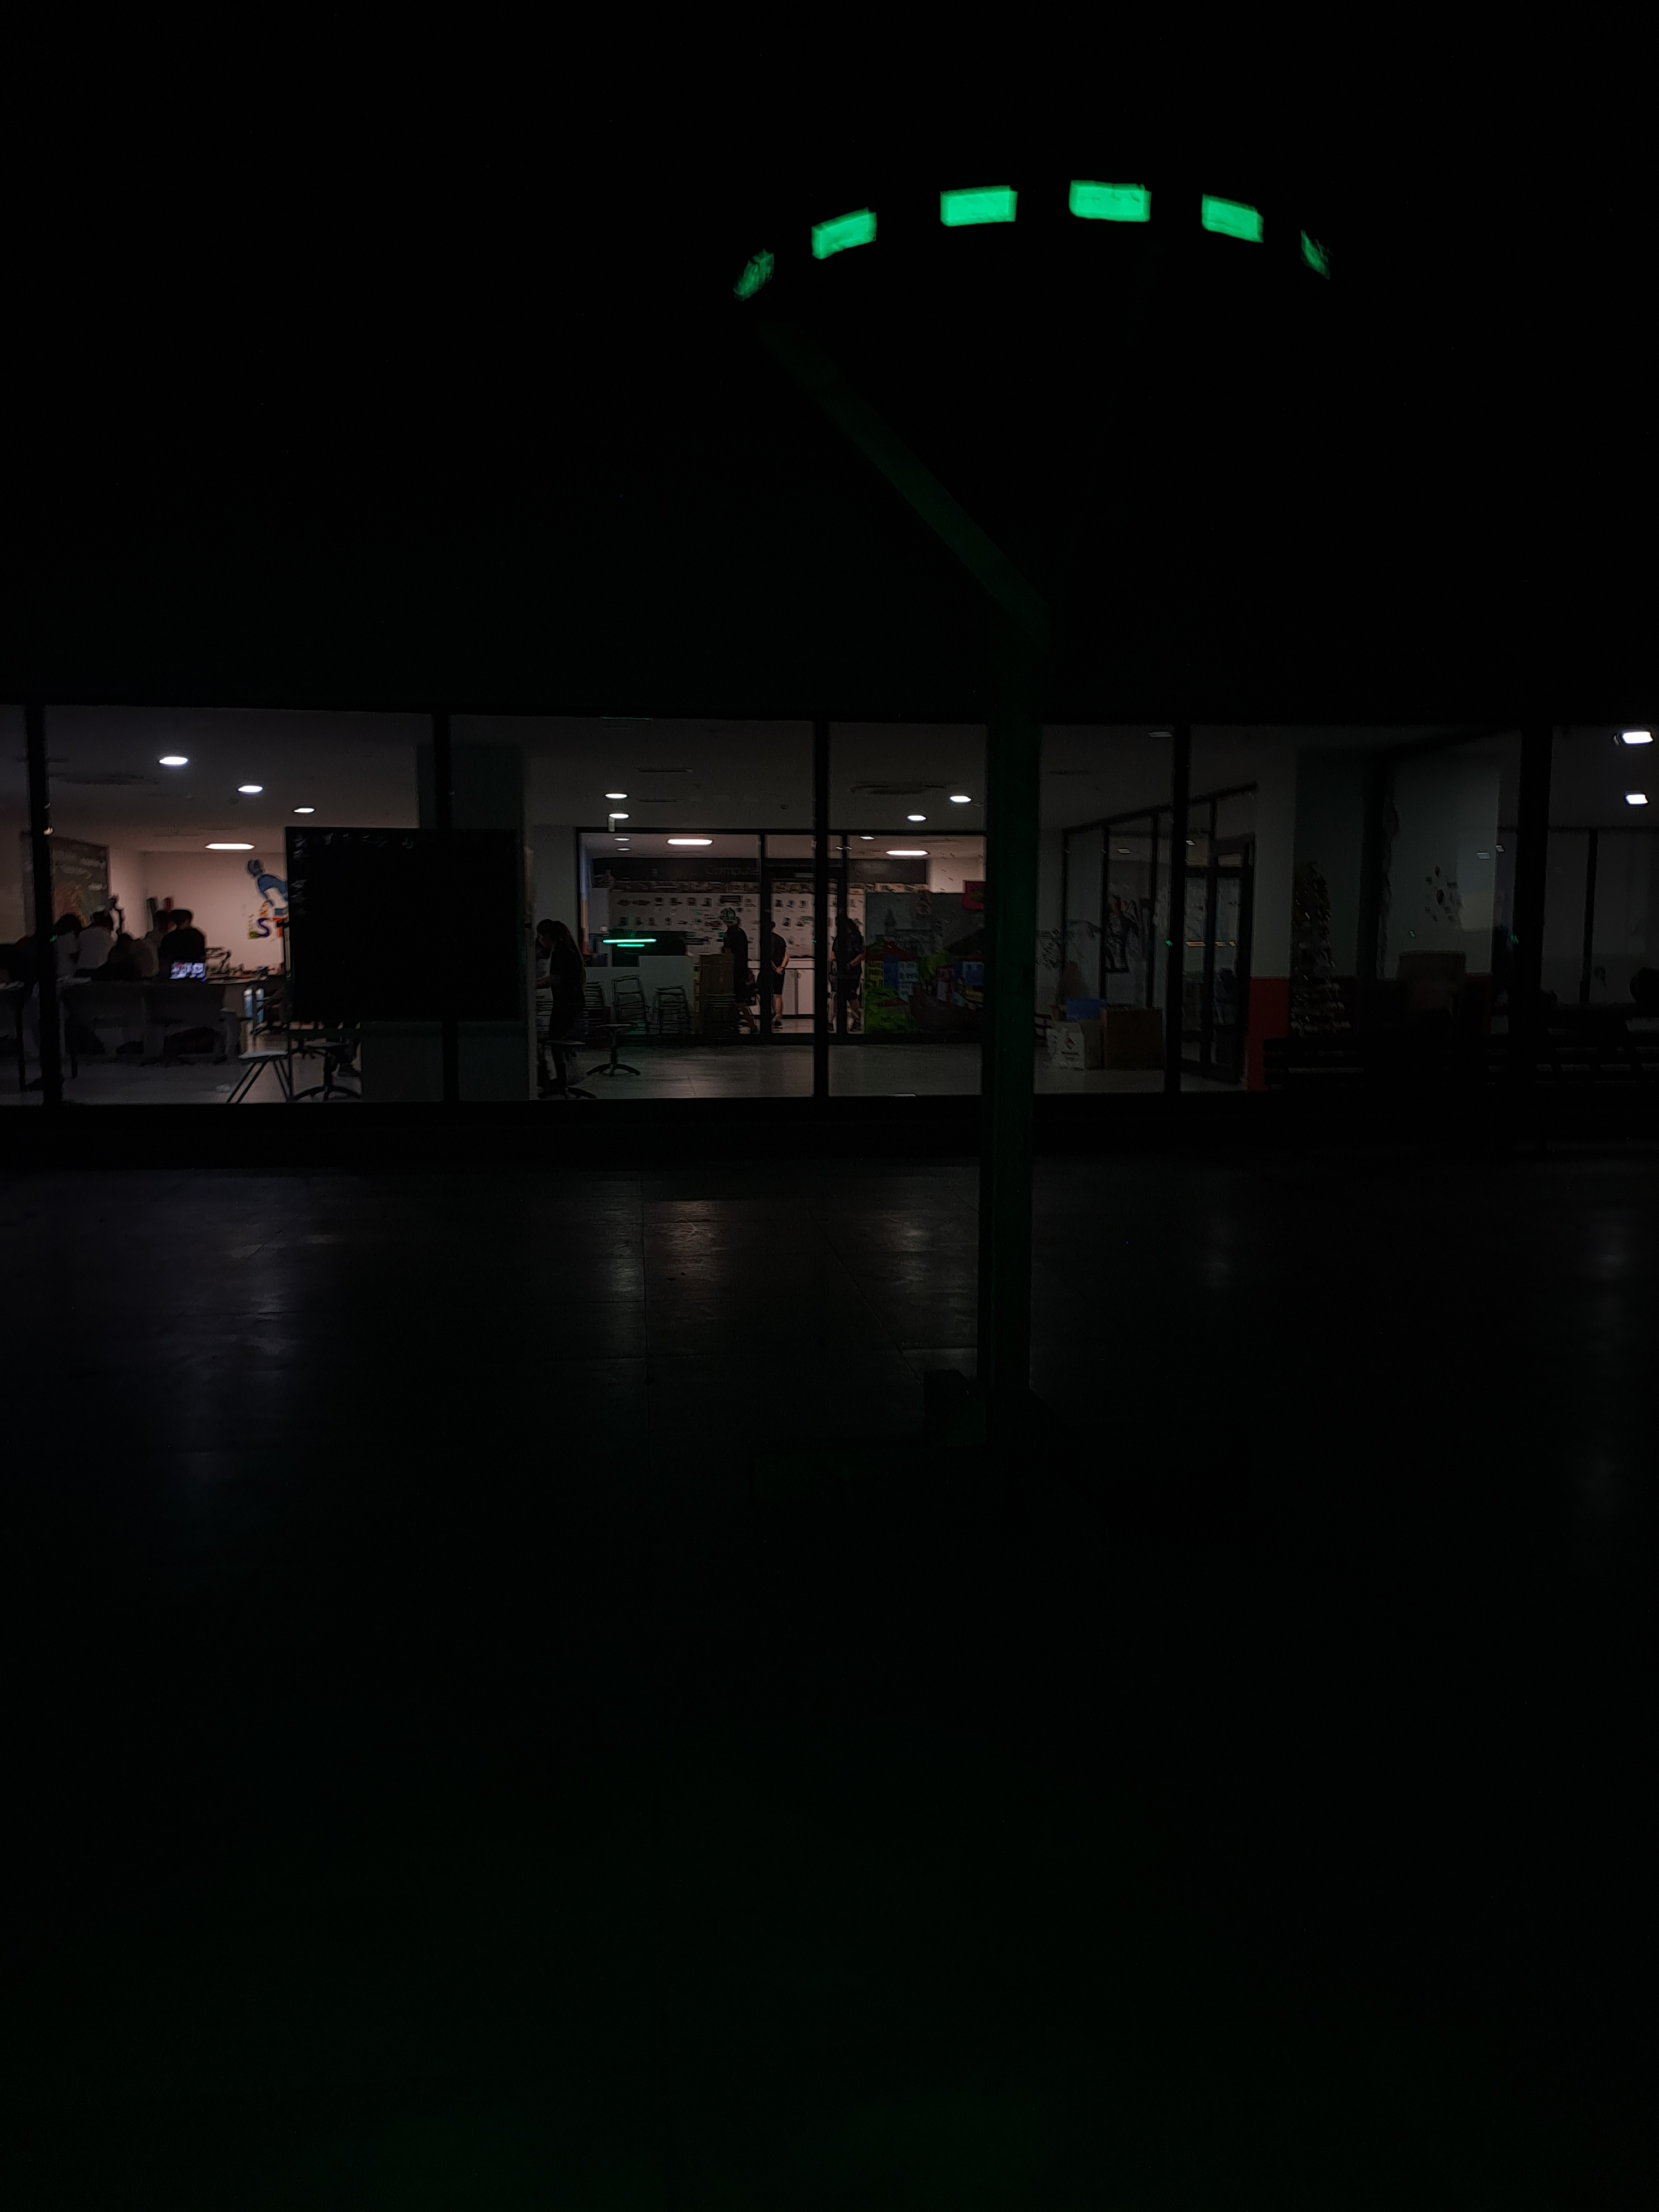hoop: (735, 174, 1337, 303)
